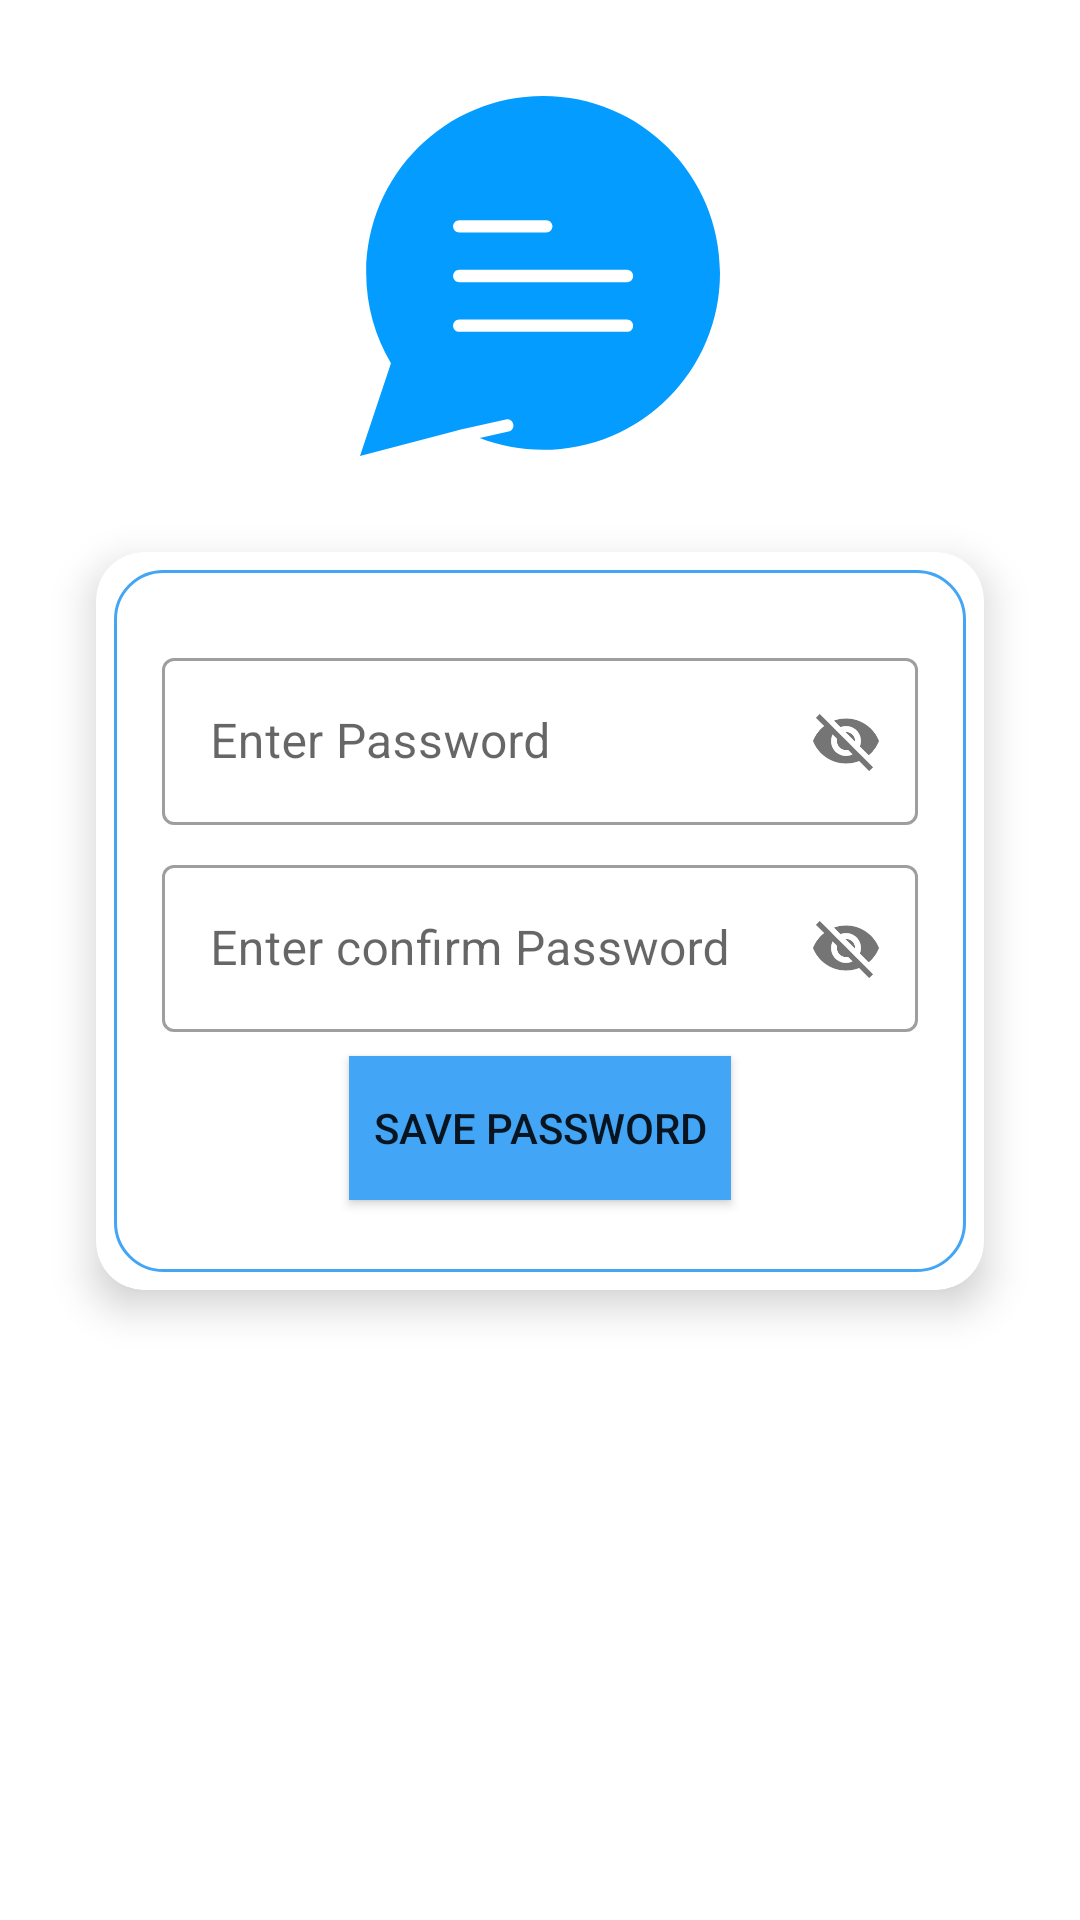

Named icons in this screenshot (1080*1920) and their centers, [x,y]:
chat: [540,276]
